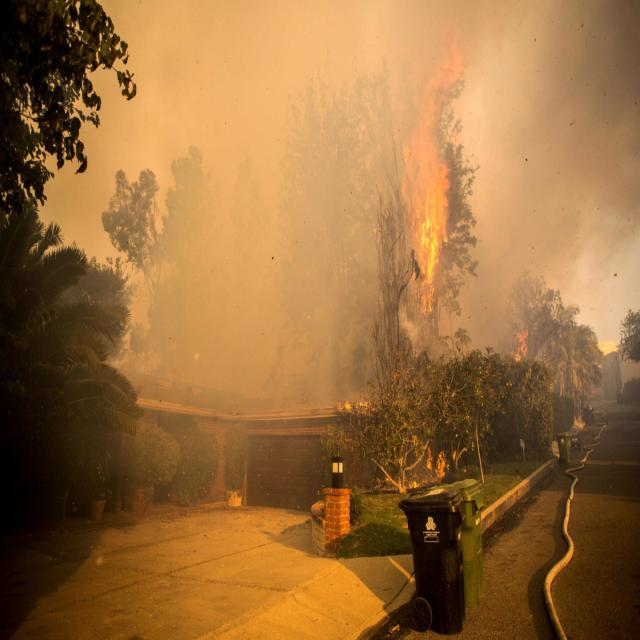Fire: (400, 76, 448, 330), (403, 443, 454, 488)
Smoke: (168, 19, 370, 434), (475, 34, 633, 346)
